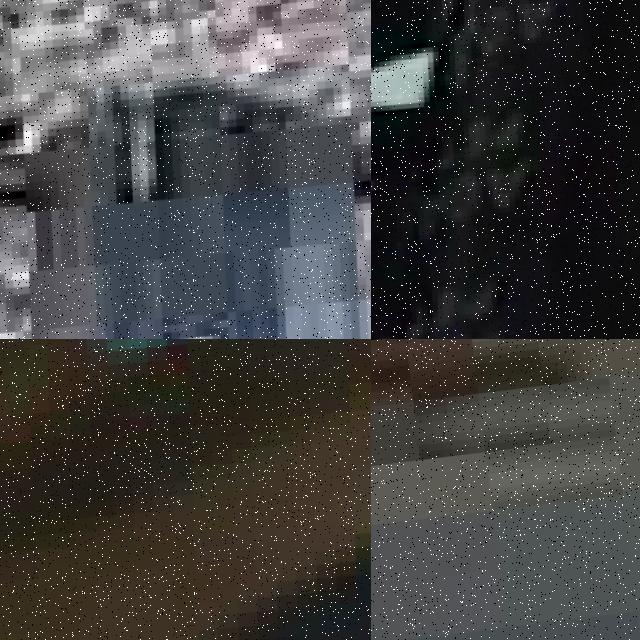drone: (0, 0, 371, 339), (0, 339, 371, 640), (371, 0, 640, 339)
